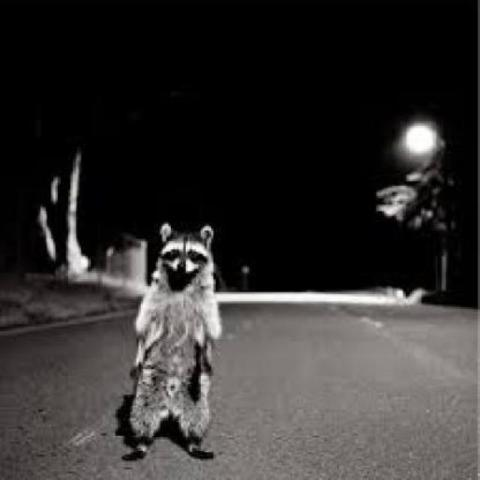small_animal: (118, 220, 224, 461)
